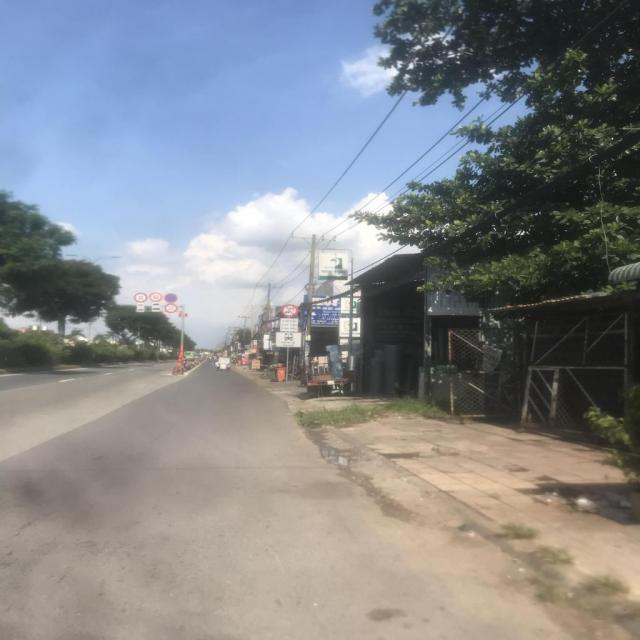cam_dung_xe_va_do_xe: (164, 293, 178, 303)
cam_o_to_tai_va_xe_khach: (281, 304, 298, 318)
cam_xe_2_banh_va_xe_3_banh_co_dong_co: (164, 303, 178, 313)
khac: (275, 333, 301, 347), (280, 318, 298, 332), (152, 307, 160, 312), (137, 307, 144, 312), (152, 302, 160, 306), (137, 303, 145, 306)
toc_do_toi_da_60: (150, 292, 162, 302)
toc_do_toi_da_80: (134, 293, 148, 302)
